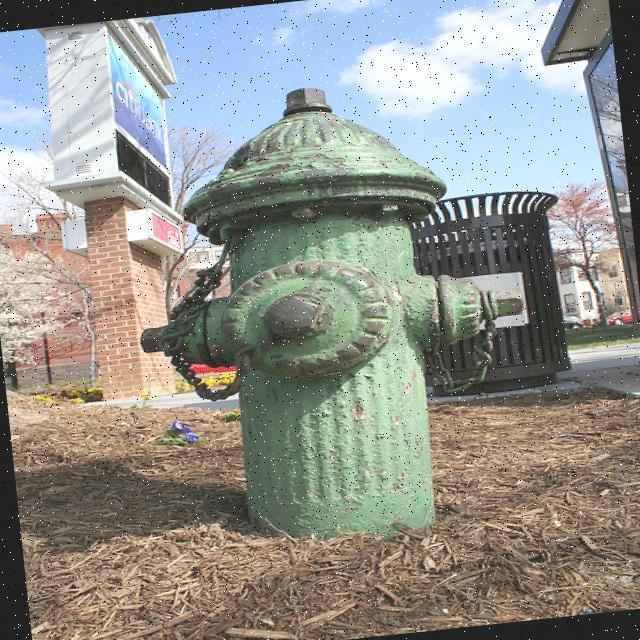fire_hydrant: (116, 66, 550, 560)
